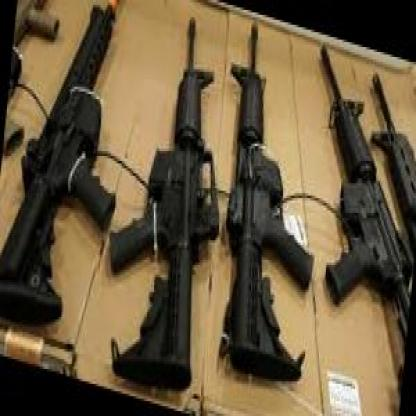rifle: (96, 0, 237, 401), (205, 10, 333, 396)
